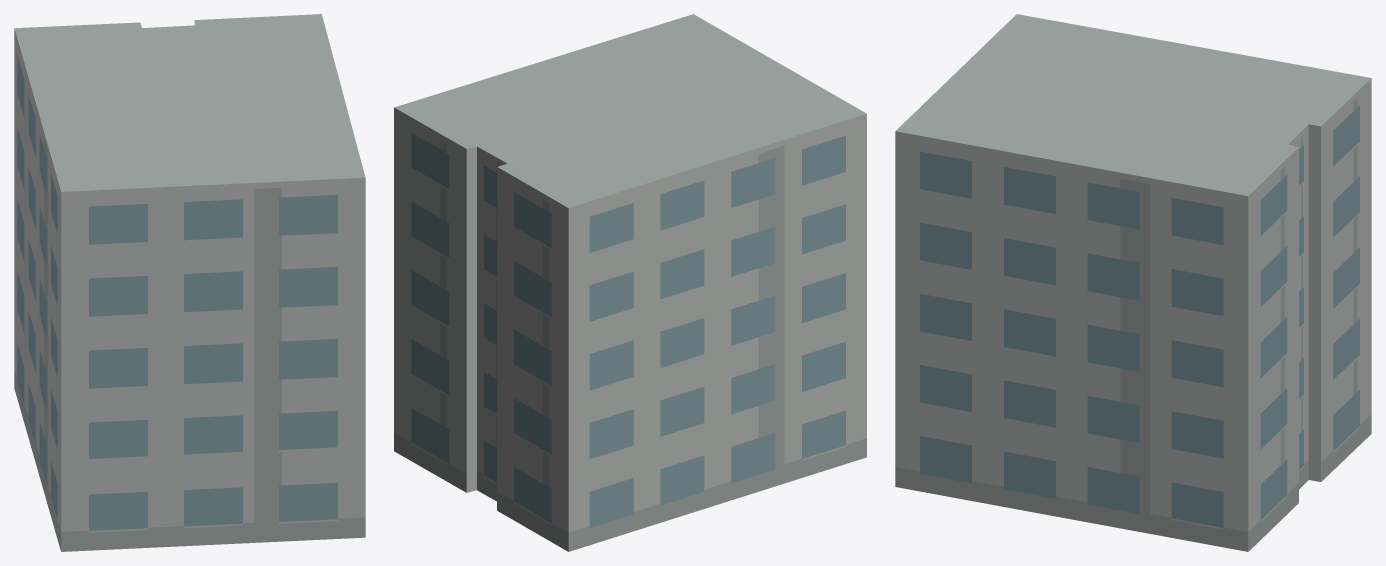
File: survey-upis-32531529.glb
3 renders of one model, left to right at view 1: azimuth 30°, elevation 25°; view 2: azimuth 150°, elevation 25°; view 3: azimuth 270°, elevation 25°, orthographic. The views are drawn at different scales.
Visible parts, largest first — view 1: survey-upis-32531529.tmp; view 2: survey-upis-32531529.tmp; view 3: survey-upis-32531529.tmp.
Boxes of the visible parts, x1,y1,x2,y2 form: survey-upis-32531529.tmp: (14,14,365,551); survey-upis-32531529.tmp: (394,14,866,551); survey-upis-32531529.tmp: (895,14,1371,551).
Bounding box in the file's own units: 15.72 × 14.3 × 17.36.
